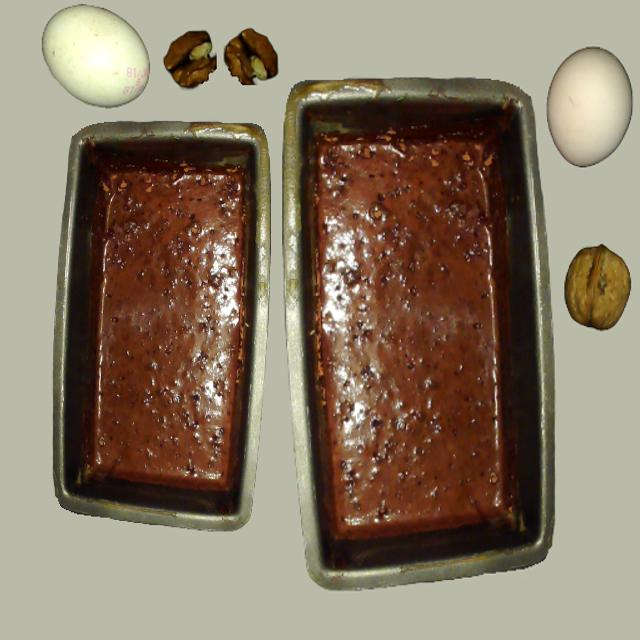Walnut: (564, 245, 631, 328)
